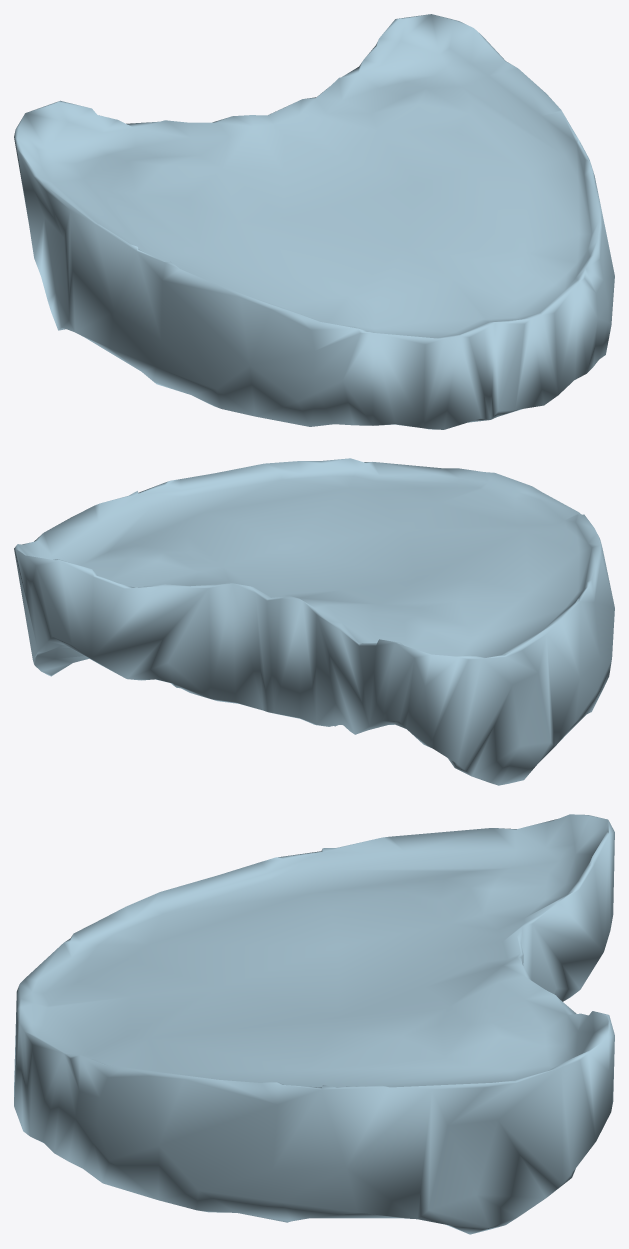
The model's file is articulacoes-intervertebral-disc-t5-t6.glb.
3 views of the same model, one above another, from view 1: azimuth 30°, elevation 25°; view 2: azimuth 150°, elevation 25°; view 3: azimuth 270°, elevation 25° (orthographic). The views are drawn at different scales.
Visible parts, largest first — view 1: Intervertebral disc T5-T6; view 2: Intervertebral disc T5-T6; view 3: Intervertebral disc T5-T6.
Boxes of the visible parts, x1,y1,x2,y2 form: Intervertebral disc T5-T6: [14, 14, 614, 429]; Intervertebral disc T5-T6: [14, 458, 614, 785]; Intervertebral disc T5-T6: [14, 814, 614, 1234].
Bounding box in the file's own units: 0.0321 × 0.0107 × 0.0315.
